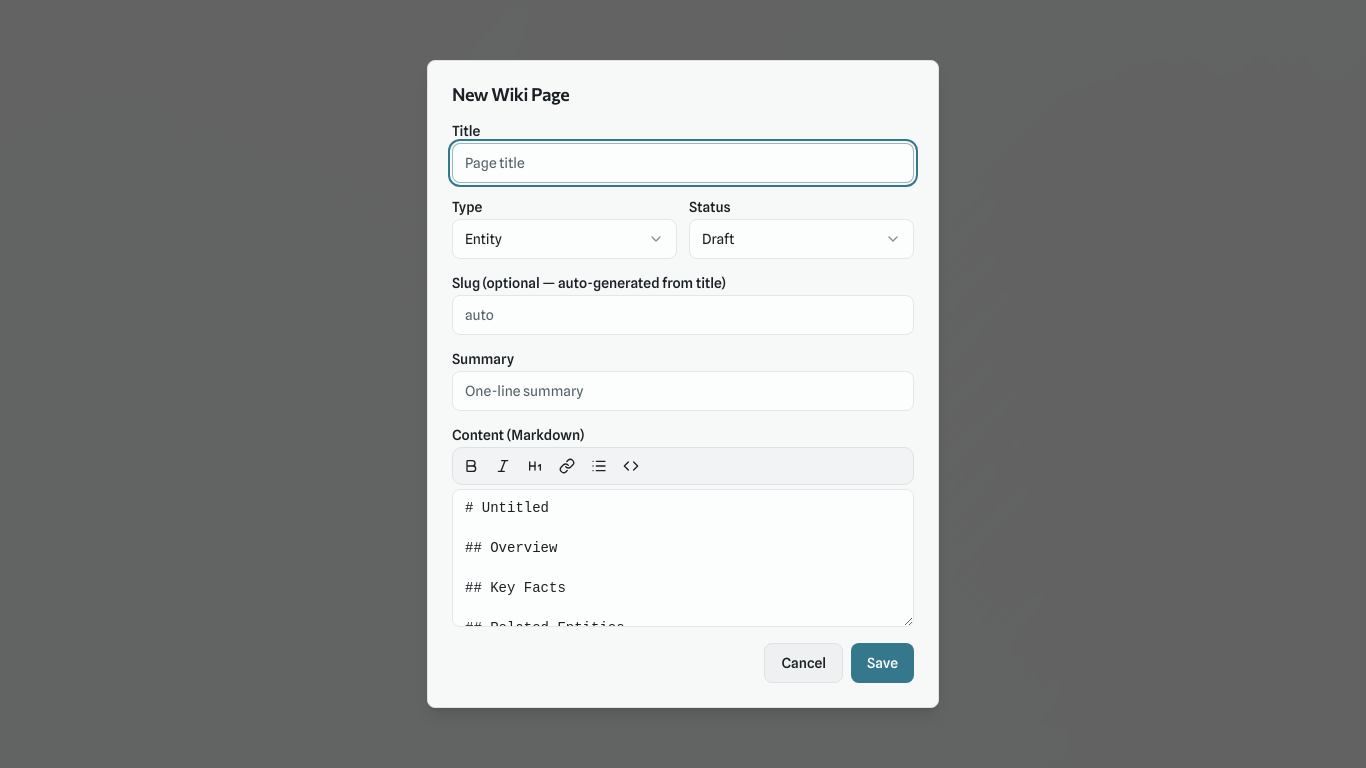
Test: WikiEditDialog › inserts bold markers around the selection when Bold is clicked
Note: Replace content with a known string and select the word "world".
Step 1. Replace the text in the text box labelled "Content (Markdown)" with "hello world" → (683,558), box x1=452 y1=489 x2=914 y2=627
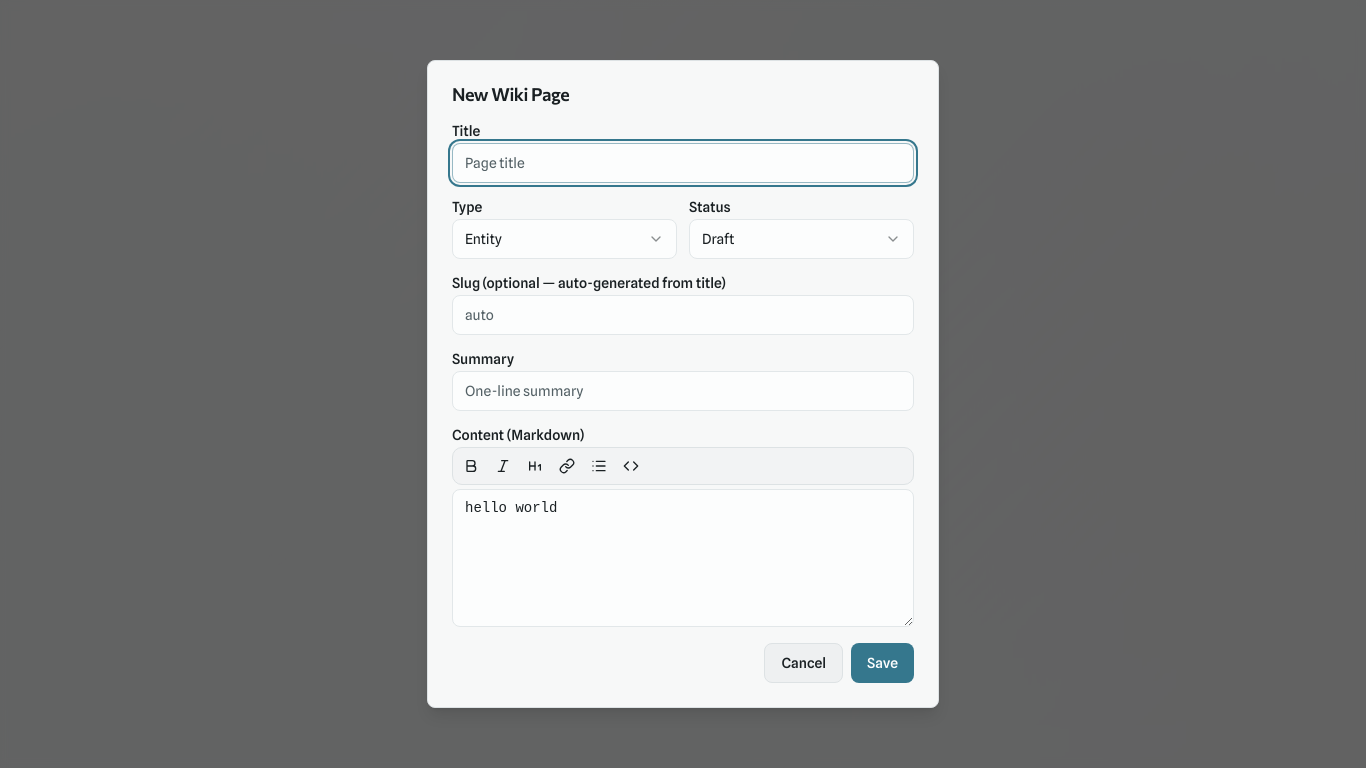
Step 2. Click the button titled "Bold" → (471,466), box x1=457 y1=452 x2=485 y2=480
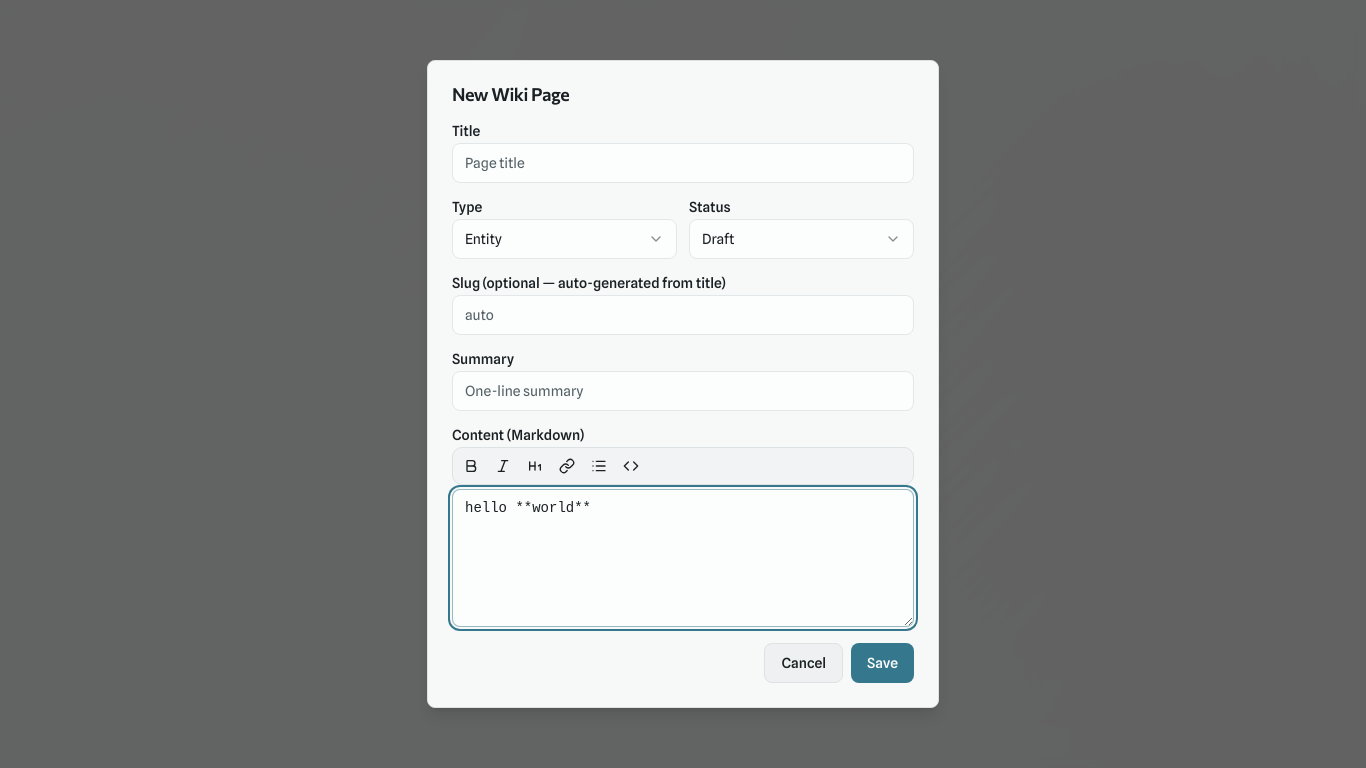
Expected: the text box labelled "Content (Markdown)" holds "hello **world**", x1=452 y1=489 x2=914 y2=627
